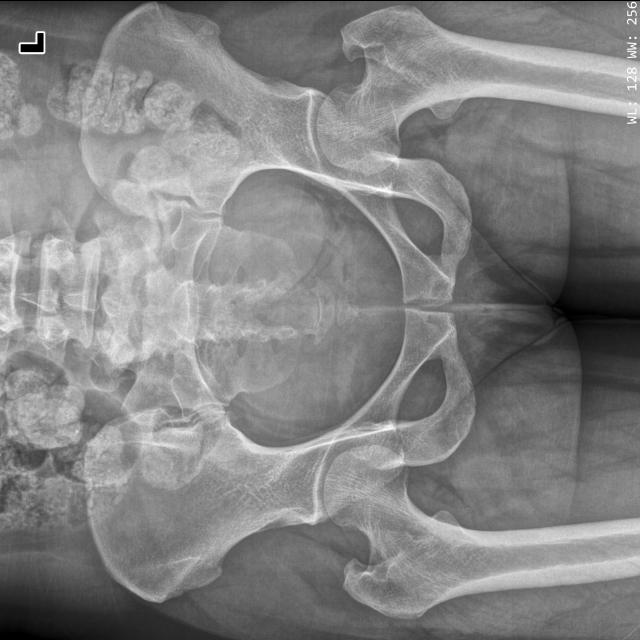normal-left: (317, 4, 599, 173)
normal-right: (324, 445, 583, 618)
